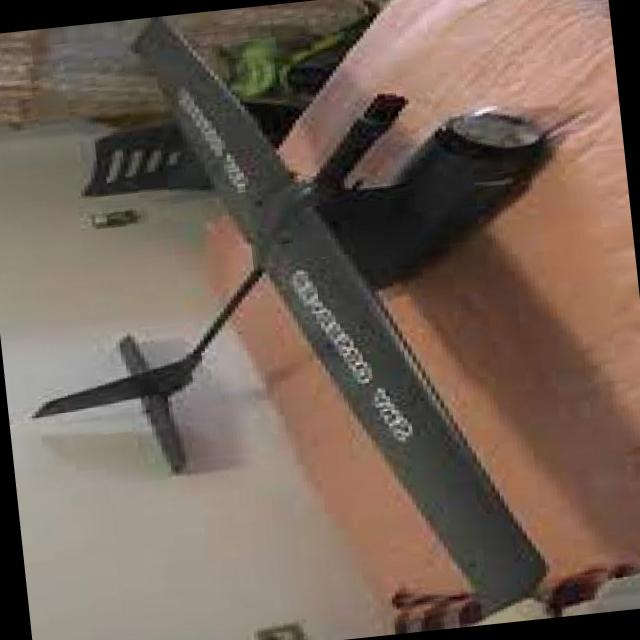UAV: (111, 0, 559, 500)
